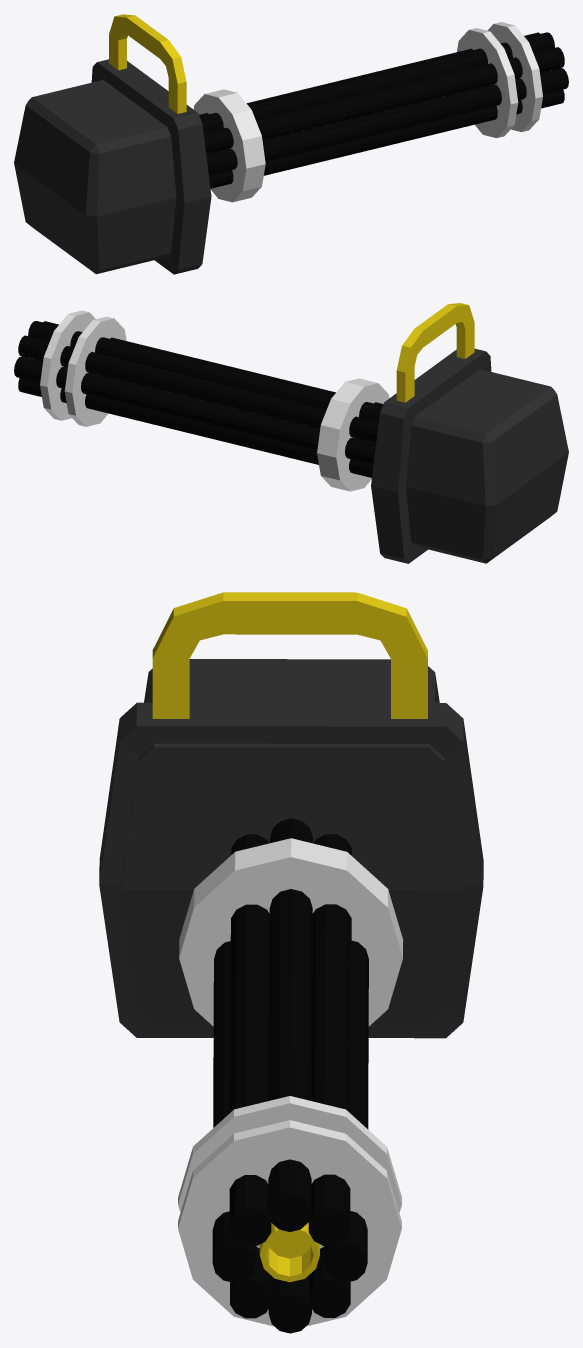
Rendered from MINIGUN .fbx.
3 views of the same model, one above another, from view 1: azimuth 30°, elevation 25°; view 2: azimuth 150°, elevation 25°; view 3: azimuth 270°, elevation 25° (orthographic). The views are drawn at different scales.
Parts seen in each view (by area): view 1: Weapon_09; view 2: Weapon_09; view 3: Weapon_09.
Boxes of the visible parts, x1=… form: Weapon_09: x1=14, y1=14, x2=568, y2=274; Weapon_09: x1=14, y1=303, x2=568, y2=563; Weapon_09: x1=99, y1=592, x2=483, y2=1333.
Bounding box in the file's own units: 175 × 71.74 × 58.15.
